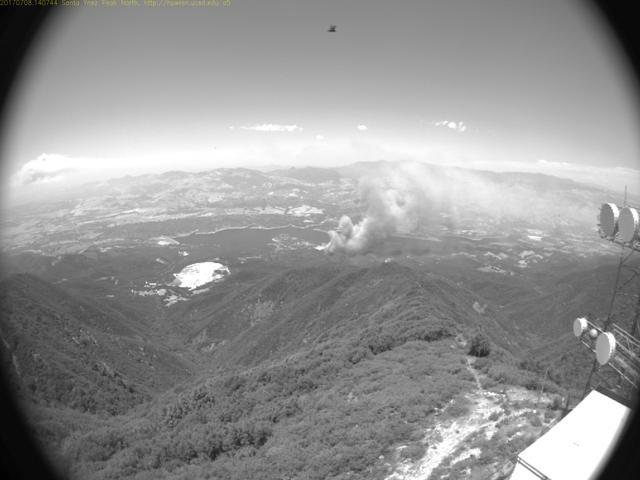smoke: (308, 147, 560, 255)
